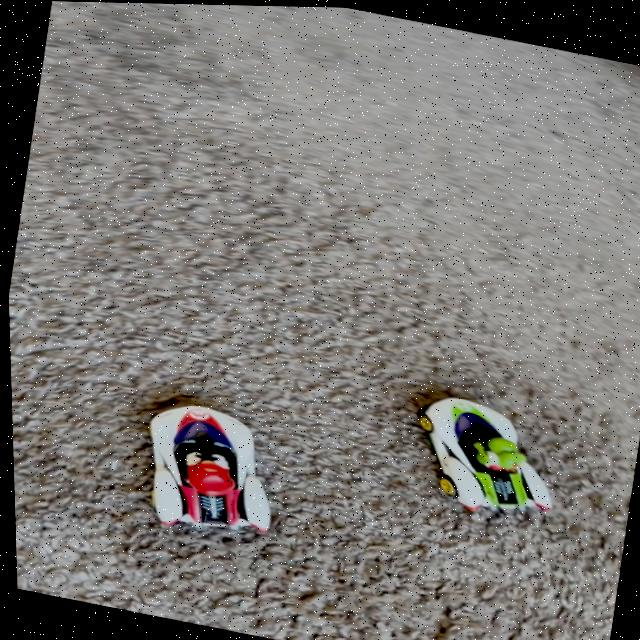mario: (103, 379, 305, 569)
yoshi: (379, 370, 587, 547)
